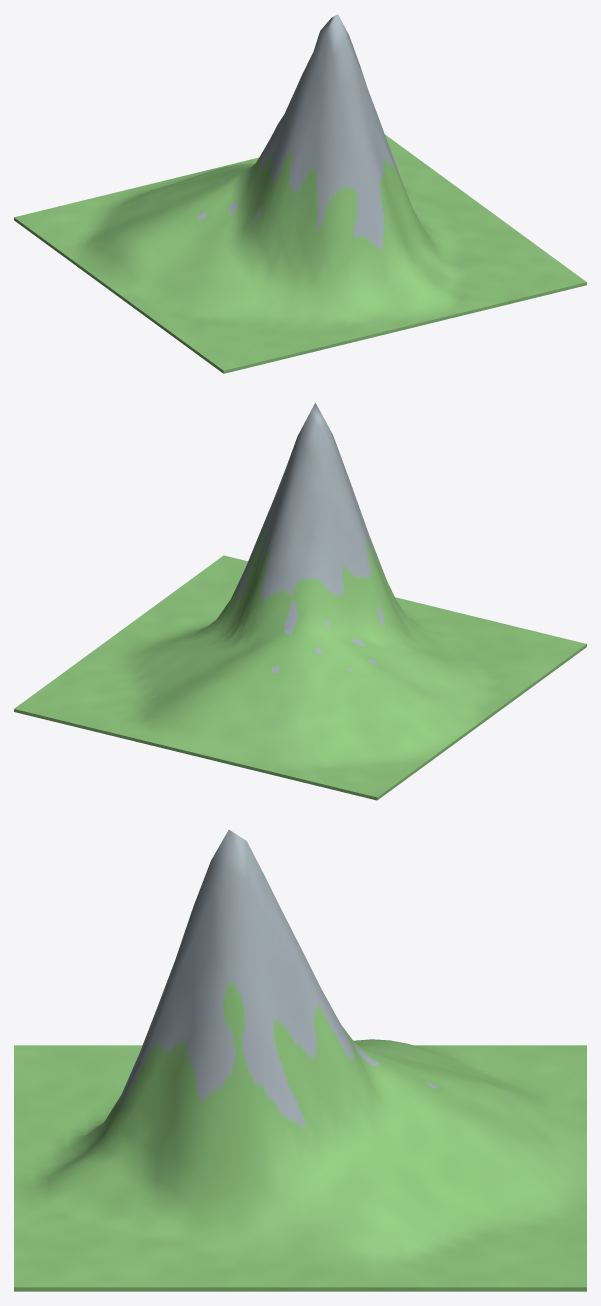
File: Grass_RockyMountains_02.obj
3 views of the same model, one above another, from view 1: azimuth 30°, elevation 25°; view 2: azimuth 150°, elevation 25°; view 3: azimuth 270°, elevation 25° (orthographic). The views are drawn at different scales.
Bounding box in the file's own units: 10 × 6.71 × 10.
Materials: 1 (1 with a texture image).
